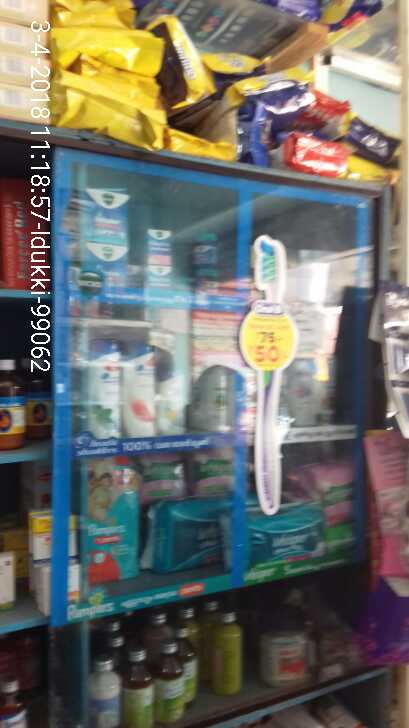vicks: (85, 185, 220, 293)
